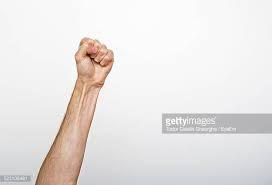fist: (72, 36, 116, 87)
